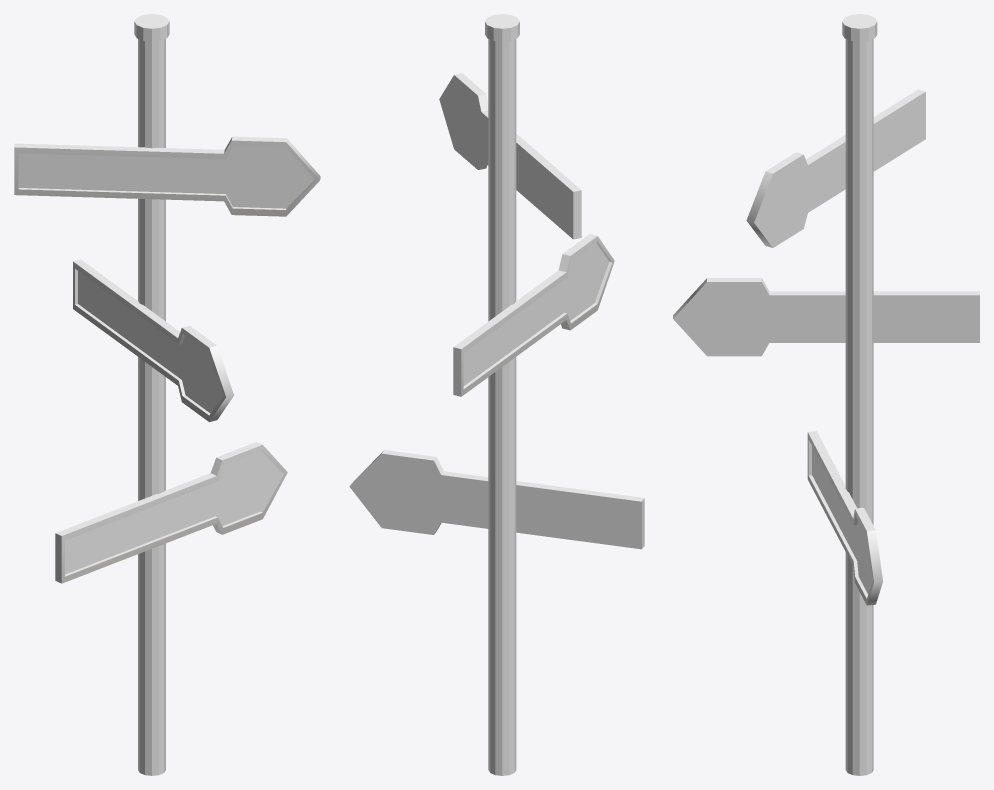
Rendered from señal2.fbx.
3 renders of one model, left to right at view 1: azimuth 30°, elevation 25°; view 2: azimuth 150°, elevation 25°; view 3: azimuth 270°, elevation 25°, orthographic.
Visible parts, largest first — view 1: señal2; view 2: señal2; view 3: señal2.
Boxes of the visible parts, <box> form: señal2: <box>14,14,320,775</box>; señal2: <box>349,14,644,775</box>; señal2: <box>673,14,979,775</box>.
Size of the model in its own units: 282 by 774 by 287.
